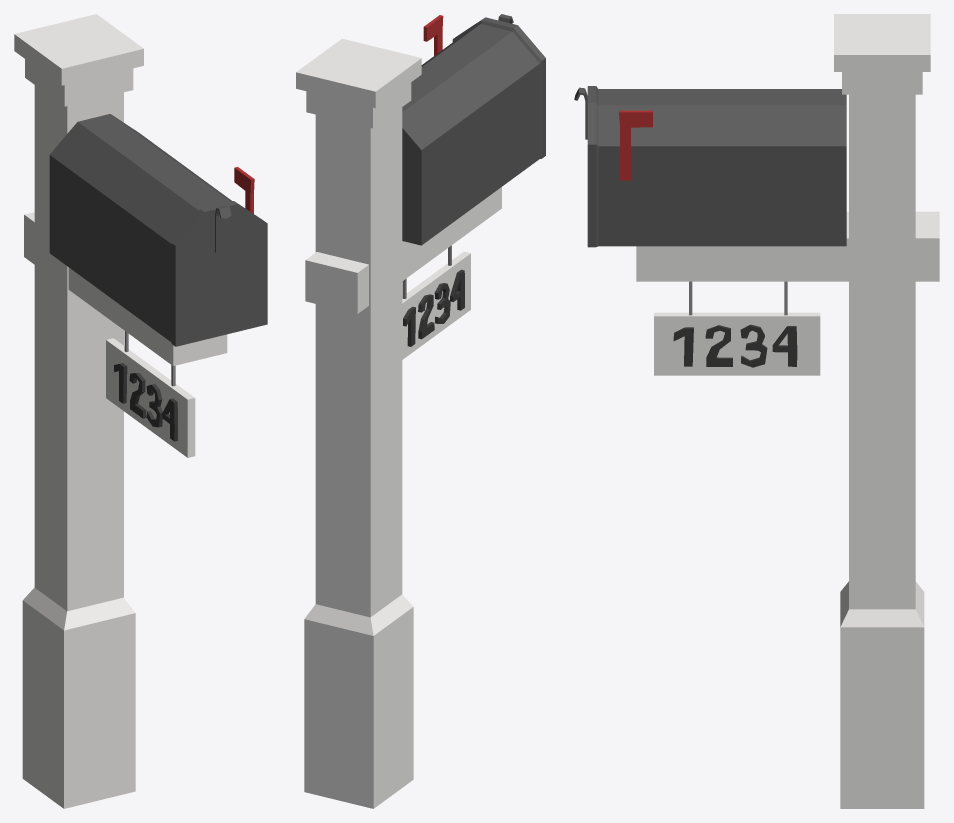
File: Mailbox.fbx
The picture shows the model from 3 angles, left to right: view 1: azimuth 30°, elevation 25°; view 2: azimuth 150°, elevation 25°; view 3: azimuth 270°, elevation 25°; orthographic projection. The views are drawn at different scales.
Parts seen in each view (by area): view 1: Mailbox; view 2: Mailbox; view 3: Mailbox.
Part boxes in pixels (<box>): Mailbox: <box>14,14,267,808</box>; Mailbox: <box>296,14,545,808</box>; Mailbox: <box>574,14,939,808</box>.
Bounding box in the file's own units: 17.61 × 58.1 × 133.
